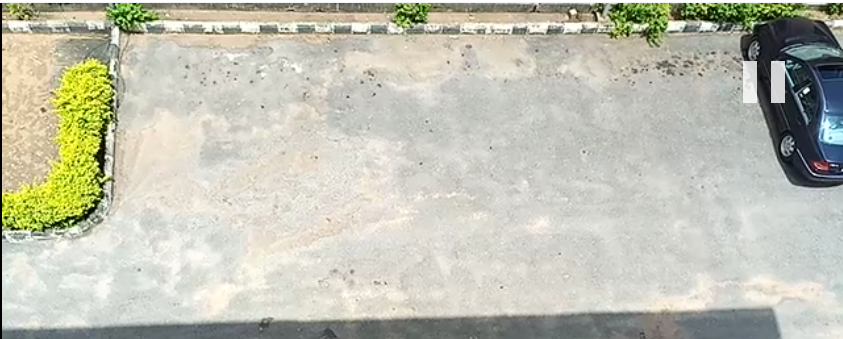one: (94, 13, 251, 236)
three: (474, 2, 621, 245)
two: (312, 8, 450, 240)
